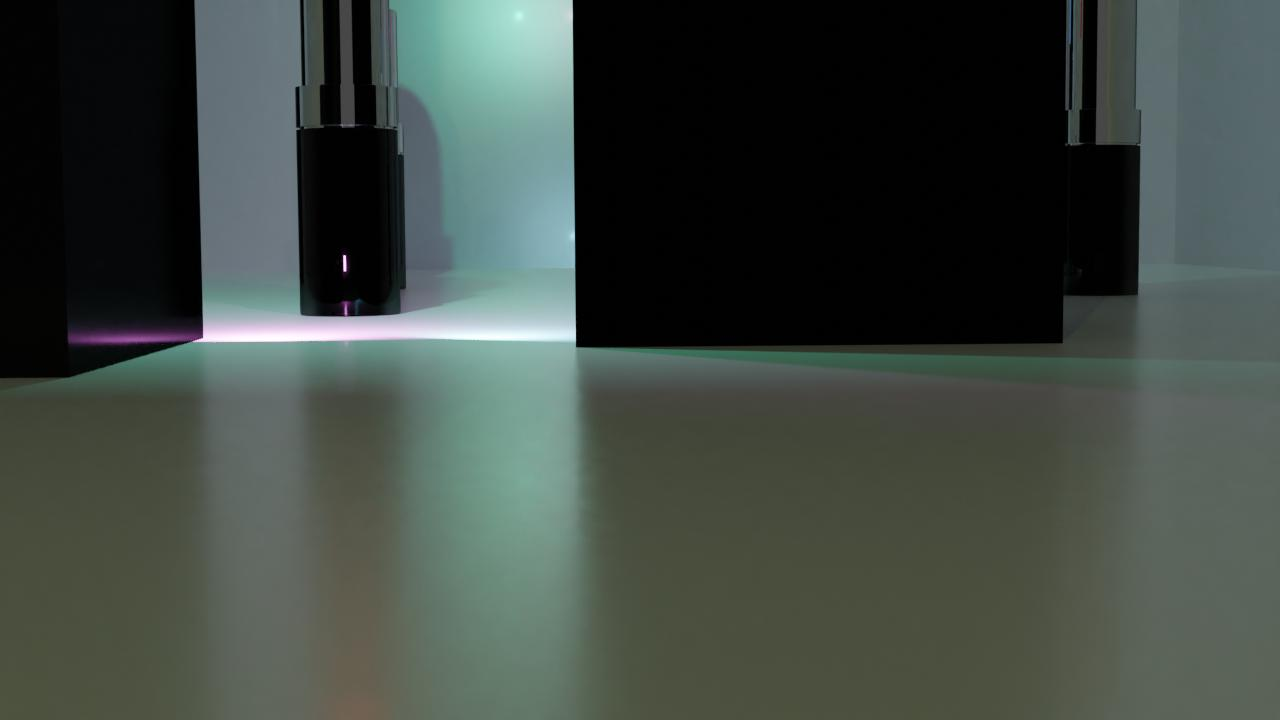CLASSIFIER_NAME: (293, 0, 403, 316), (1050, 0, 1143, 302)
